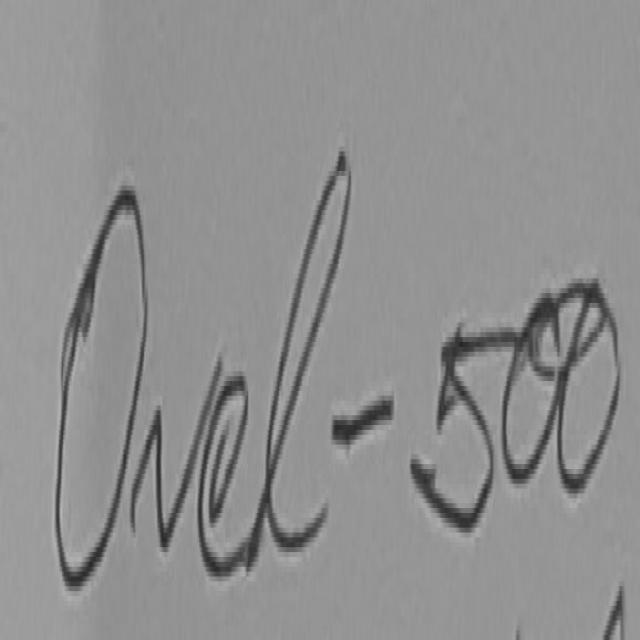0: (557, 216, 628, 520), (502, 230, 560, 527)
5: (414, 208, 502, 602)
O: (35, 116, 175, 632)
e: (180, 309, 272, 635)
l: (241, 110, 377, 602)
v: (122, 294, 239, 592)
